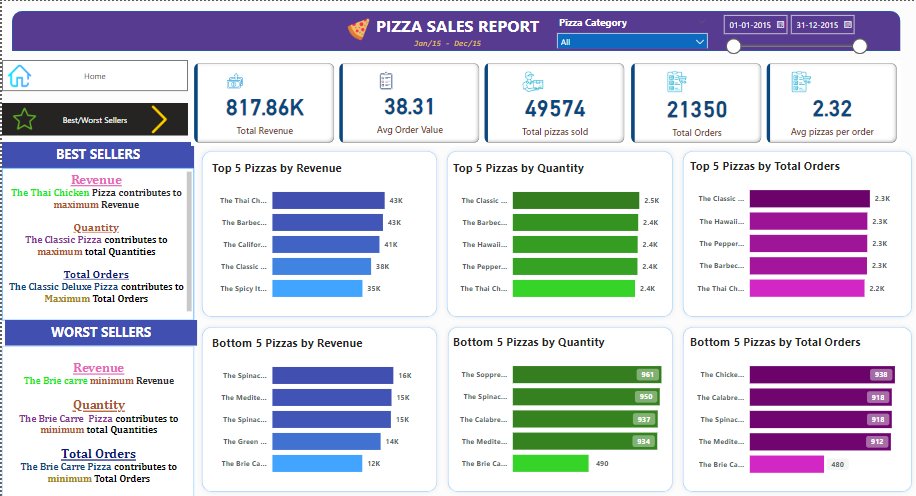

The page's visual inventory and layout, read from the dashboard file:
{"tool":"powerbi","page":{"name":"Best/Worst Sellers","canvas":[1500,820],"ordinal":1},"visuals":[{"type":"textbox","box":[0,231.2,314.9,42.6],"z":0},{"type":"cardVisual","fields":{"Data":["pizza_sales.Total Revenue","pizza_sales.Avg Order Value","pizza_sales.Total pizzas sold"]},"box":[310,96.8,716.7,141],"z":1000},{"type":"cardVisual","fields":{"Data":["pizza_sales.Total Orders","pizza_sales.Avg pizzas per order"]},"box":[1026.7,96.7,446.7,141.7],"z":2000},{"type":"shape","box":[17.1,17.1,1457.1,65.7],"z":3000},{"type":"textbox","box":[608.4,16.4,291.9,54.1],"z":4000},{"type":"textbox","box":[671.4,54.3,128.6,31.4],"z":5000},{"type":"image","box":[550,22.9,71.4,47.1],"z":6000},{"type":"shape","box":[320,238.3,401.7,288.3],"z":7000},{"type":"textbox","box":[0,273.3,315,250],"z":8000},{"type":"textbox","box":[5,523.3,315,41.7],"z":9000},{"type":"textbox","box":[0,565,315,248.3],"z":10000},{"type":"slicer","fields":{"Values":["pizza_sales.pizza_category"]},"box":[900,20,266.7,58.3],"z":11000},{"type":"slicer","fields":{"Values":["pizza_sales.order_date"]},"box":[1171.7,13.3,256.7,83.3],"z":12000},{"type":"shape","box":[721.7,238.3,386.7,288.3],"z":13000},{"type":"shape","box":[1108.3,238.3,391.7,288.3],"z":14000},{"type":"shape","box":[320,526.7,401.7,286.7],"z":15000},{"type":"shape","box":[723.3,526.7,385,286.7],"z":16000},{"type":"shape","box":[1108.3,526.7,391.7,286.7],"z":17000},{"type":"barChart","title":"Top 5 Pizzas by Revenue","fields":{"Category":["pizza_sales.pizza_name"],"Y":["pizza_sales.Total Revenue"]},"box":[340,260,363.3,245],"z":18000},{"type":"barChart","title":"Bottom 5 Pizzas by Revenue","fields":{"Category":["pizza_sales.pizza_name"],"Y":["pizza_sales.Total Revenue"]},"box":[340,548.3,363.3,245],"z":19000},{"type":"barChart","title":"Top 5 Pizzas by Quantity","fields":{"Category":["pizza_sales.pizza_name"],"Y":["pizza_sales.Total pizzas sold"]},"box":[735,260,361.7,245],"z":20000},{"type":"barChart","title":"Bottom 5 Pizzas by Quantity","fields":{"Category":["pizza_sales.pizza_name"],"Y":["pizza_sales.Total pizzas sold"]},"box":[735,546.7,361.7,246.7],"z":21000},{"type":"barChart","title":"Top 5 Pizzas by Total Orders","fields":{"Category":["pizza_sales.pizza_name"],"Y":["pizza_sales.Total Orders"]},"box":[1123.3,256.7,361.7,248.3],"z":22000},{"type":"barChart","title":"Bottom 5 Pizzas by Total Orders","fields":{"Category":["pizza_sales.pizza_name"],"Y":["pizza_sales.Total Orders"]},"box":[1123.3,546.7,361.7,248.3],"z":23000},{"type":"pageNavigator","box":[0,166.7,305,53.3],"z":24000},{"type":"pageNavigator","box":[0,96.7,305,51.7],"z":25000},{"type":"image","box":[211.7,165,93.3,56.7],"z":26000},{"type":"image","box":[5,96.7,48.3,51.7],"z":27000},{"type":"image","box":[0,168.3,73.3,48.3],"z":28000}]}

Visuals, with their boxes in screenshot pixels (x1, y1, x2, y2), scaled from the page's 1500x820 canvas onto the 916x496 screenshot:
textbox: [0, 140, 192, 166]
cardVisual - pizza_sales.Total Revenue x pizza_sales.Avg Order Value: [189, 59, 627, 144]
cardVisual - pizza_sales.Total Orders x pizza_sales.Avg pizzas per order: [627, 58, 900, 144]
shape: [10, 10, 900, 50]
textbox: [372, 10, 550, 43]
textbox: [410, 33, 489, 52]
image: [336, 14, 379, 42]
shape: [195, 144, 441, 319]
textbox: [0, 165, 192, 317]
textbox: [3, 317, 195, 342]
textbox: [0, 342, 192, 492]
slicer - pizza_sales.pizza_category: [550, 12, 712, 47]
slicer - pizza_sales.order_date: [716, 8, 872, 58]
shape: [441, 144, 677, 319]
shape: [677, 144, 915, 319]
shape: [195, 319, 441, 492]
shape: [442, 319, 677, 492]
shape: [677, 319, 915, 492]
"Top 5 Pizzas by Revenue" barChart: [208, 157, 429, 305]
"Bottom 5 Pizzas by Revenue" barChart: [208, 332, 429, 480]
"Top 5 Pizzas by Quantity" barChart: [449, 157, 670, 305]
"Bottom 5 Pizzas by Quantity" barChart: [449, 331, 670, 480]
"Top 5 Pizzas by Total Orders" barChart: [686, 155, 907, 305]
"Bottom 5 Pizzas by Total Orders" barChart: [686, 331, 907, 481]
pageNavigator: [0, 101, 186, 133]
pageNavigator: [0, 58, 186, 90]
image: [129, 100, 186, 134]
image: [3, 58, 33, 90]
image: [0, 102, 45, 131]
